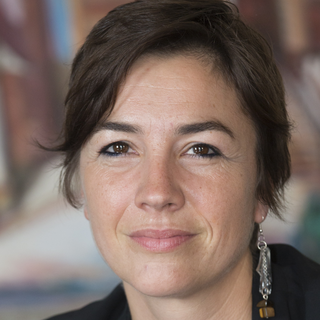eye: (172, 135, 230, 166), (94, 135, 142, 160)
